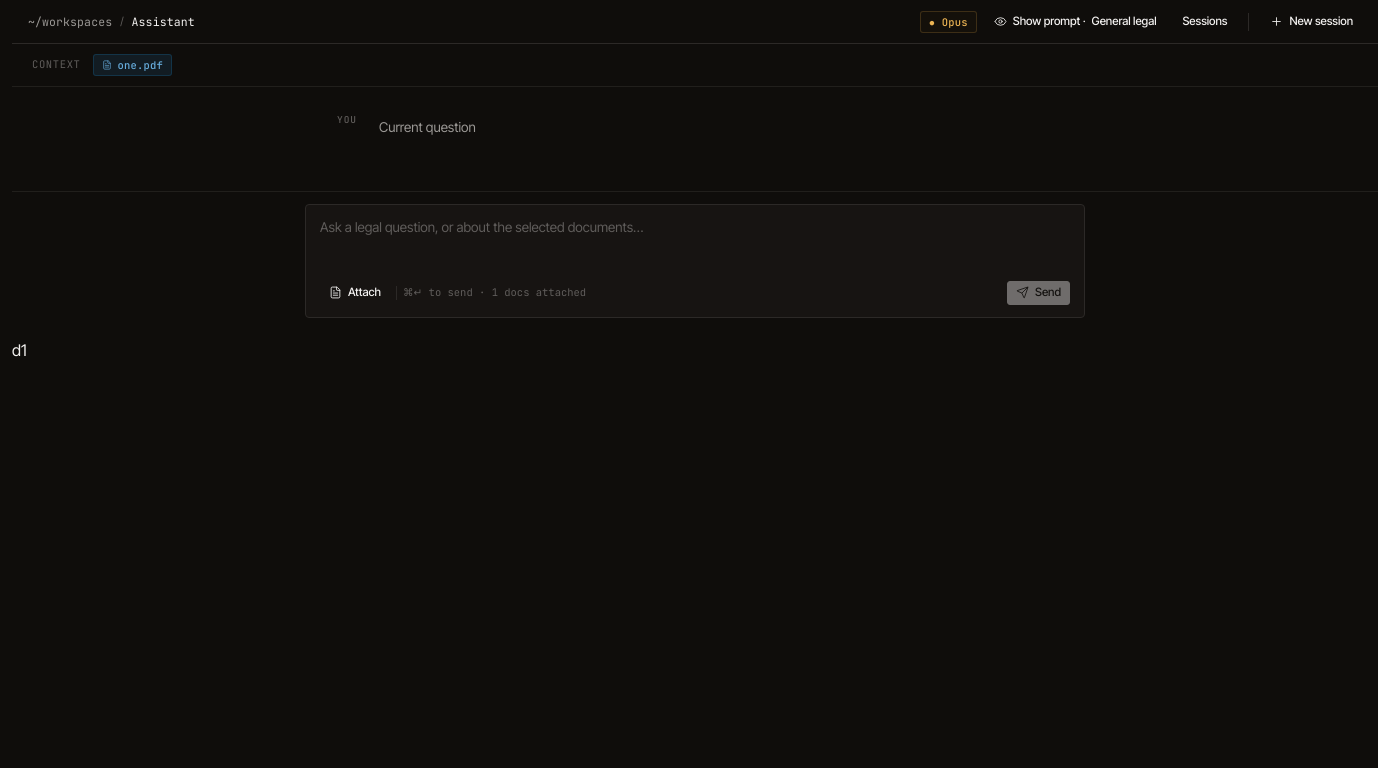
Test: Assistant session management › opens saved messages and existing documents, clearing the outgoing draft
Type "Unsent draft" into the text box at (695,243), box [320,217,1070,269]
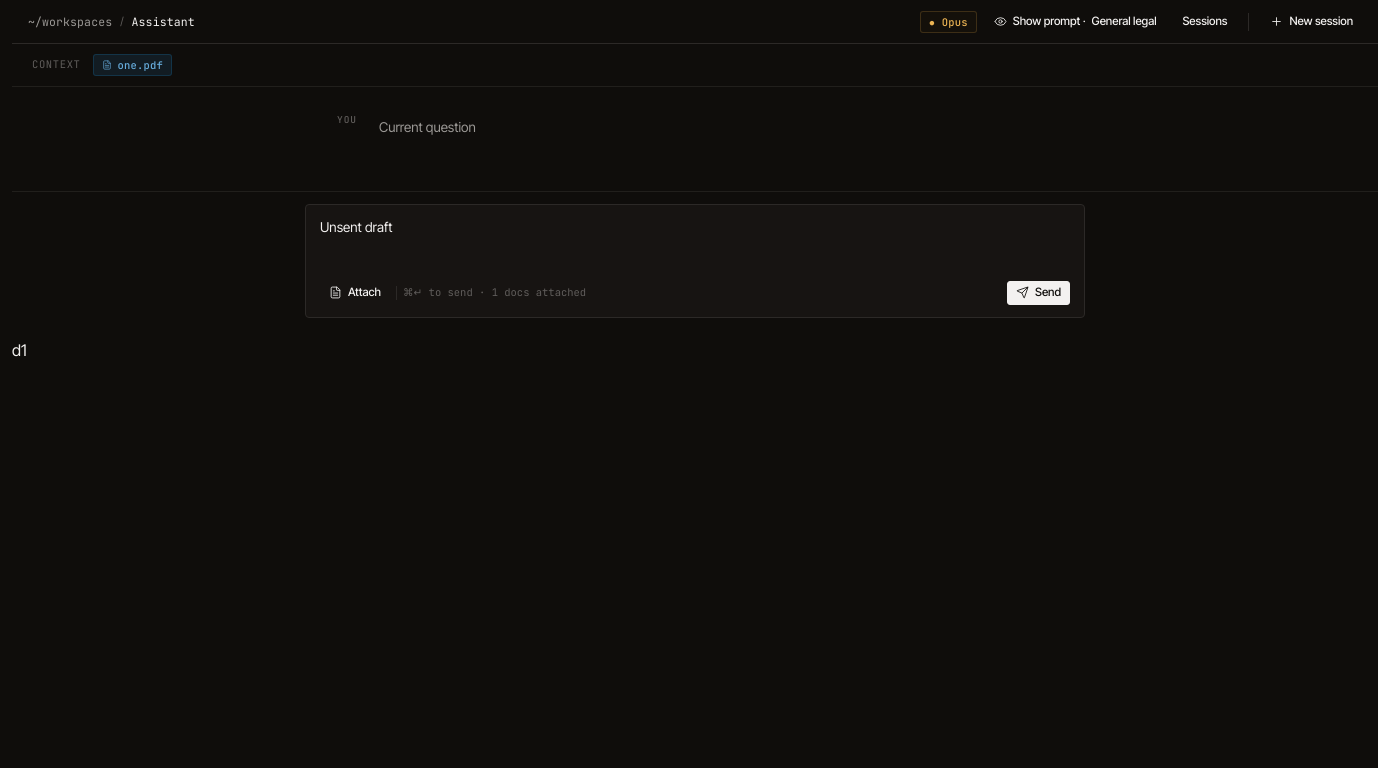
Click the button "Sessions" at (1205,22), box [1174,10,1236,34]
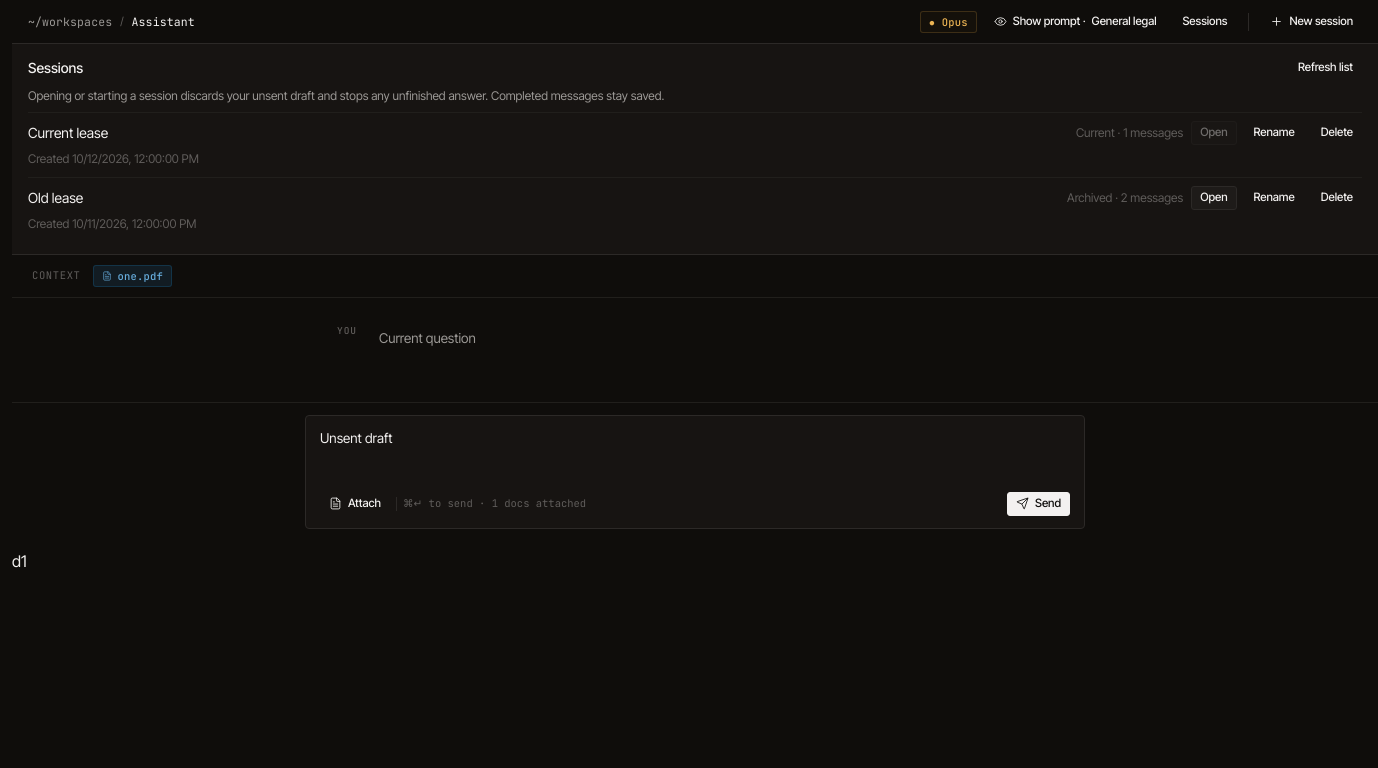
Check: the button with aria-label "Open Old lease" is shown
Click the button with aria-label "Open Old lease" at (1214,198), box [1191,186,1236,210]
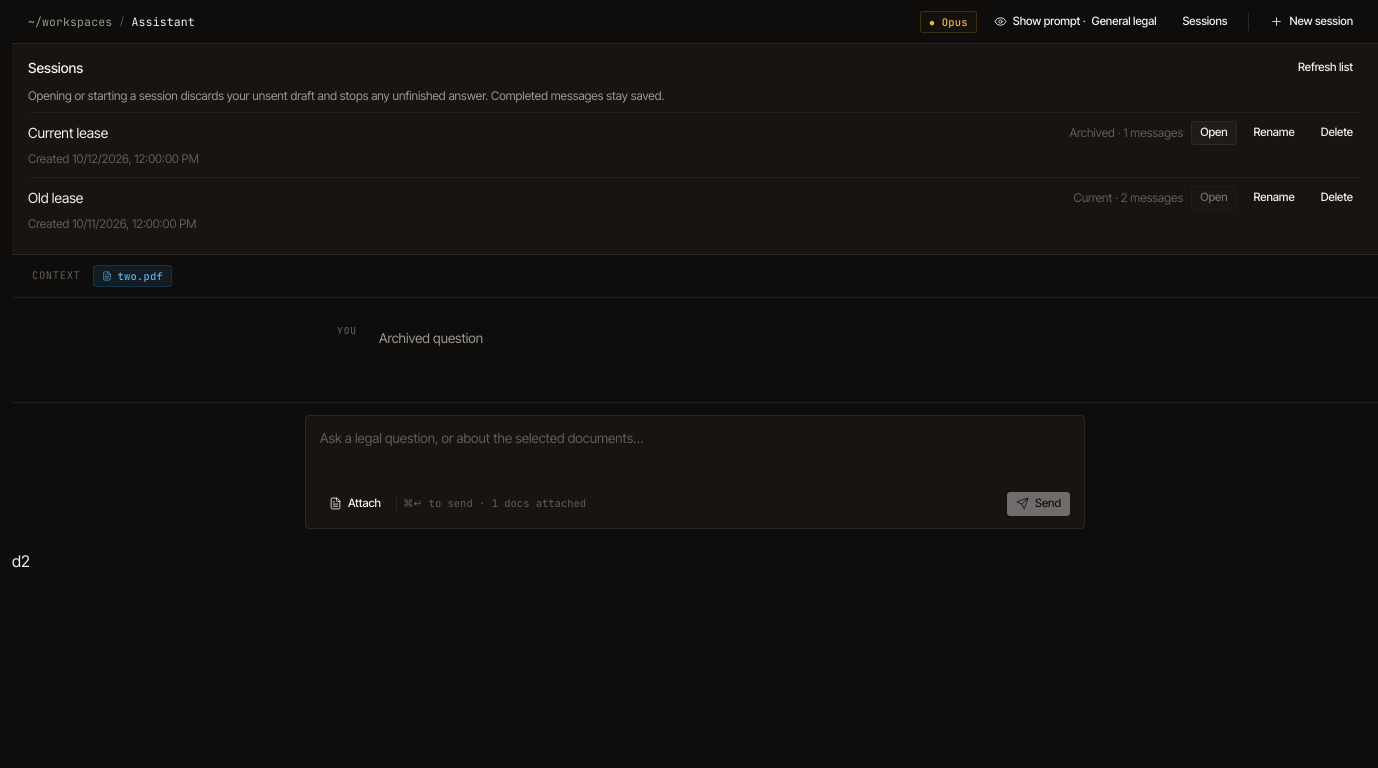
Check: the text "Archived question" is shown, box [379,330,483,346]
Check: the text "Current question" is gone
Check: the text named "Selection" reads "d2", box [12,551,30,571]
